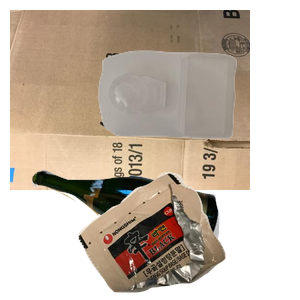cardboard: (10, 10, 250, 190)
glass: (29, 167, 241, 300)
plastic: (96, 48, 300, 179)
trash: (76, 170, 300, 300)
